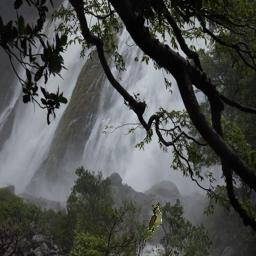Cuckoo: (144, 205, 162, 244)
